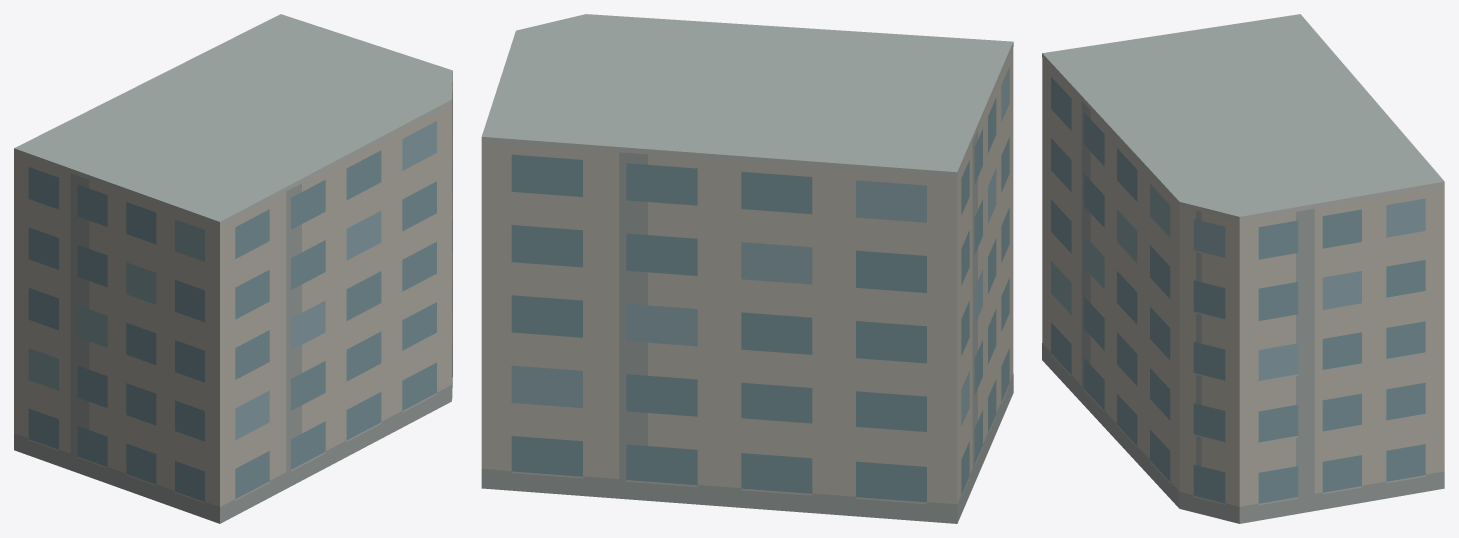
Rendered from survey-upis-32858621.glb.
3 renders of one model, left to right at view 1: azimuth 30°, elevation 25°; view 2: azimuth 150°, elevation 25°; view 3: azimuth 270°, elevation 25°, orthographic. The views are drawn at different scales.
Visible parts, largest first — view 1: survey-upis-32858621.tmp; view 2: survey-upis-32858621.tmp; view 3: survey-upis-32858621.tmp.
Boxes of the visible parts, x1,y1,x2,y2 form: survey-upis-32858621.tmp: (14,14,452,523); survey-upis-32858621.tmp: (481,14,1013,523); survey-upis-32858621.tmp: (1042,14,1444,523).
Bounding box in the file's own units: 22.68 × 16 × 19.02.
